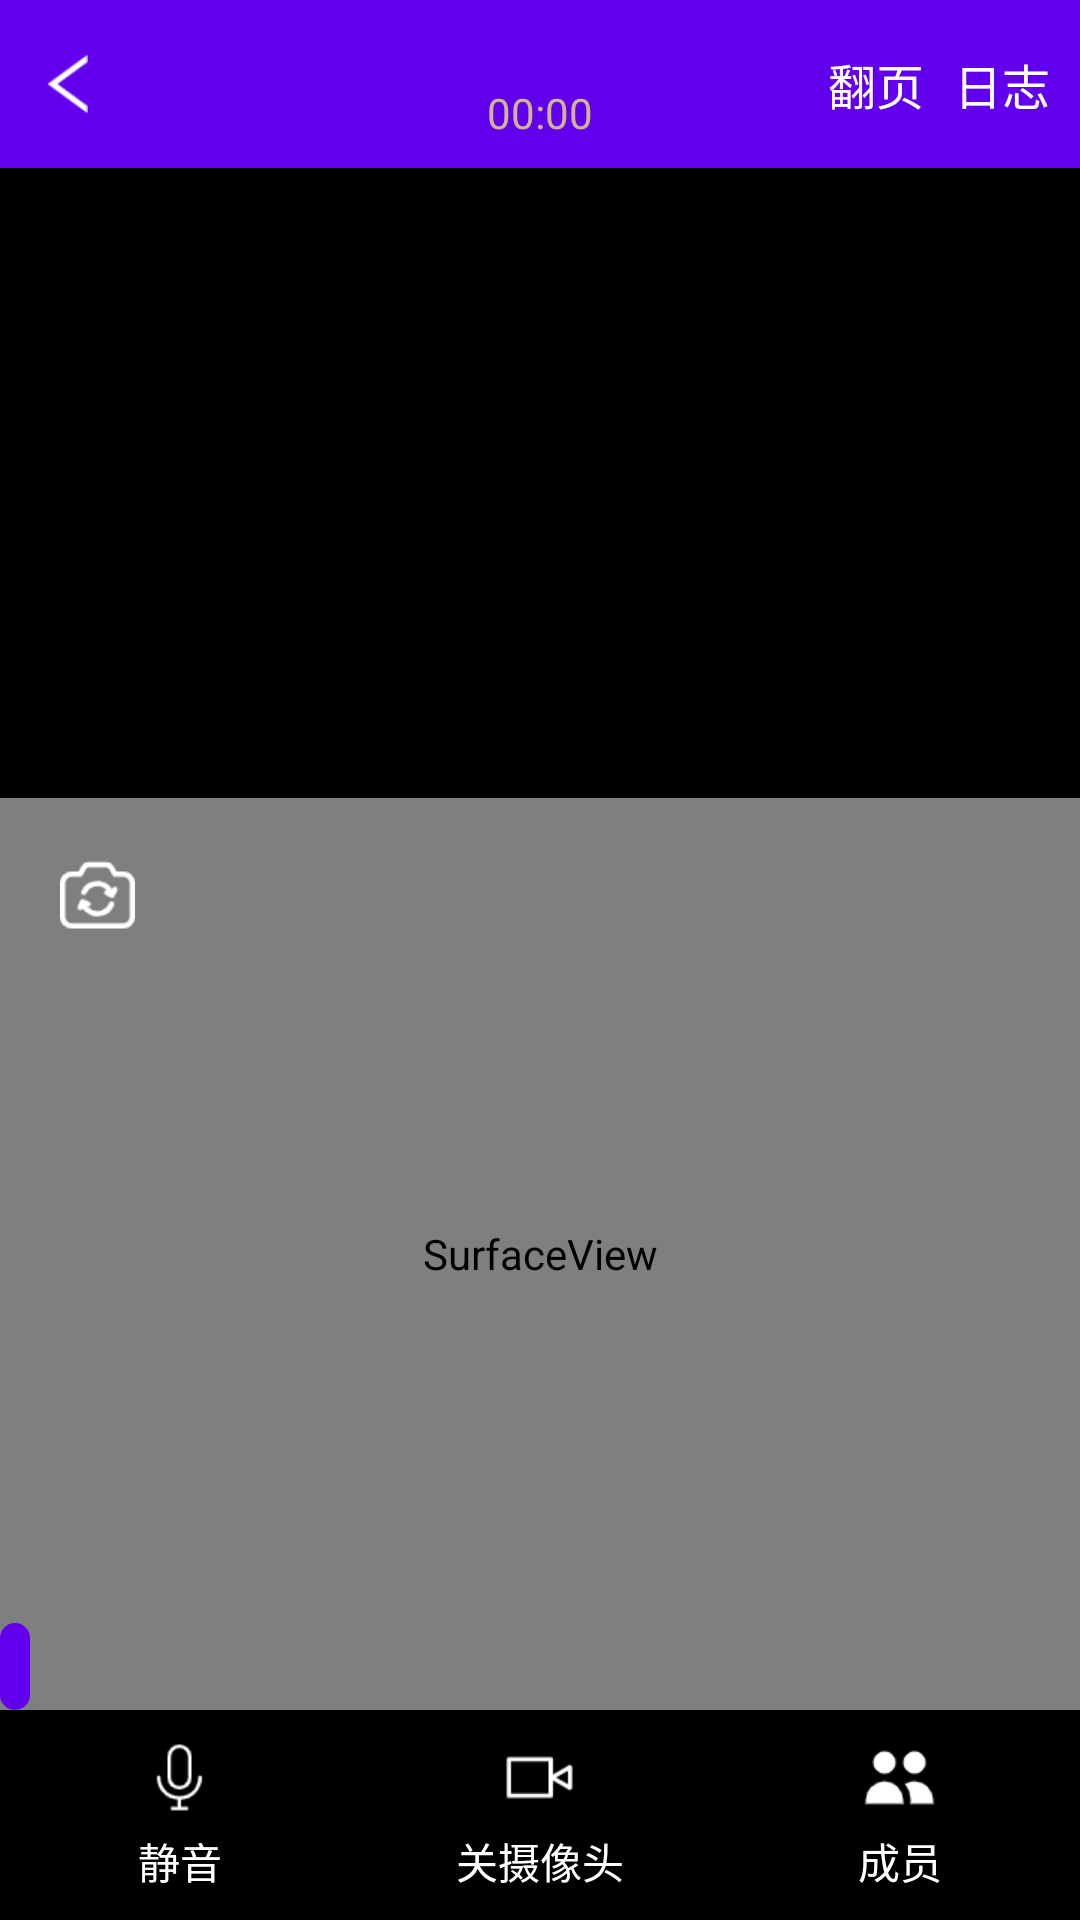

Where to tap for icons on this 1080×1920 app screen, as [x,y]:
back: [68,84]
camera open: [539,1777]
camera switch: [97,895]
mic open: [179,1777]
